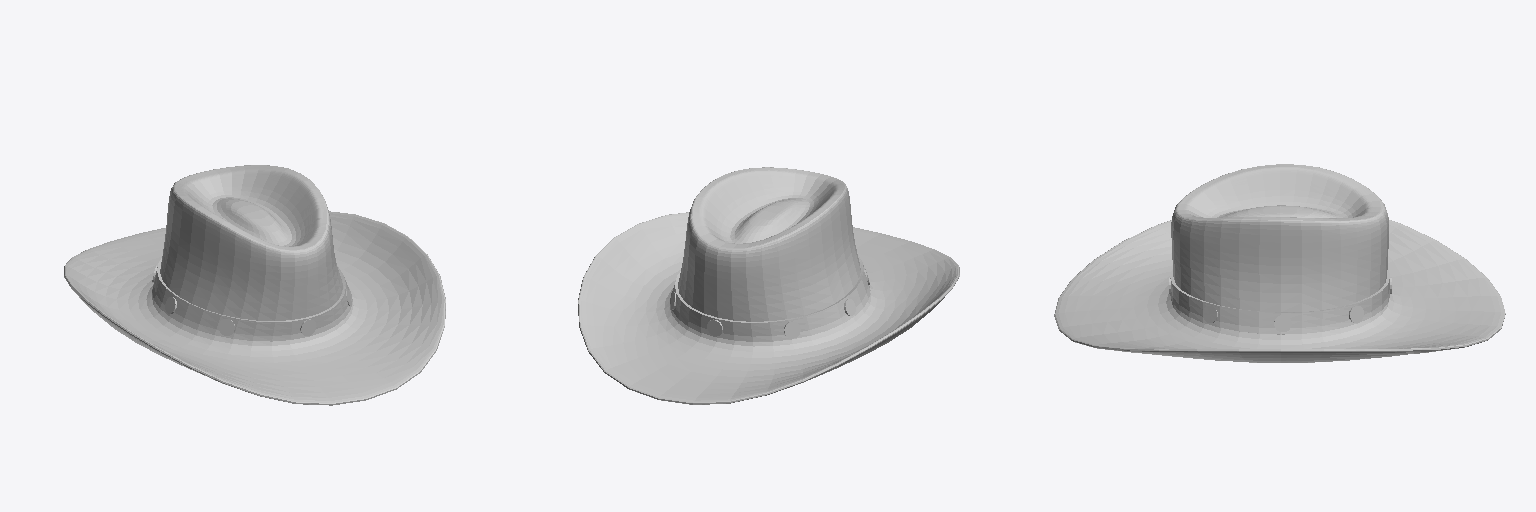
File: cowboy_hat.obj
3 views of the same model, side by side, from view 1: azimuth 30°, elevation 25°; view 2: azimuth 150°, elevation 25°; view 3: azimuth 270°, elevation 25° (orthographic).
Parts seen in each view (by area): view 1: HAT, STRAP, SKULLS; view 2: HAT, STRAP, SKULLS; view 3: HAT, STRAP, SKULLS.
Boxes of the visible parts, <box> form: HAT: <box>64,165,445,405</box>; STRAP: <box>152,258,352,341</box>; SKULLS: <box>152,265,351,335</box>; HAT: <box>578,167,959,404</box>; STRAP: <box>670,255,870,341</box>; SKULLS: <box>671,268,869,338</box>; HAT: <box>1054,164,1505,362</box>; STRAP: <box>1170,269,1389,334</box>; SKULLS: <box>1169,277,1391,331</box>.
Bounding box in the file's own units: 4.56 × 1.77 × 5.79.